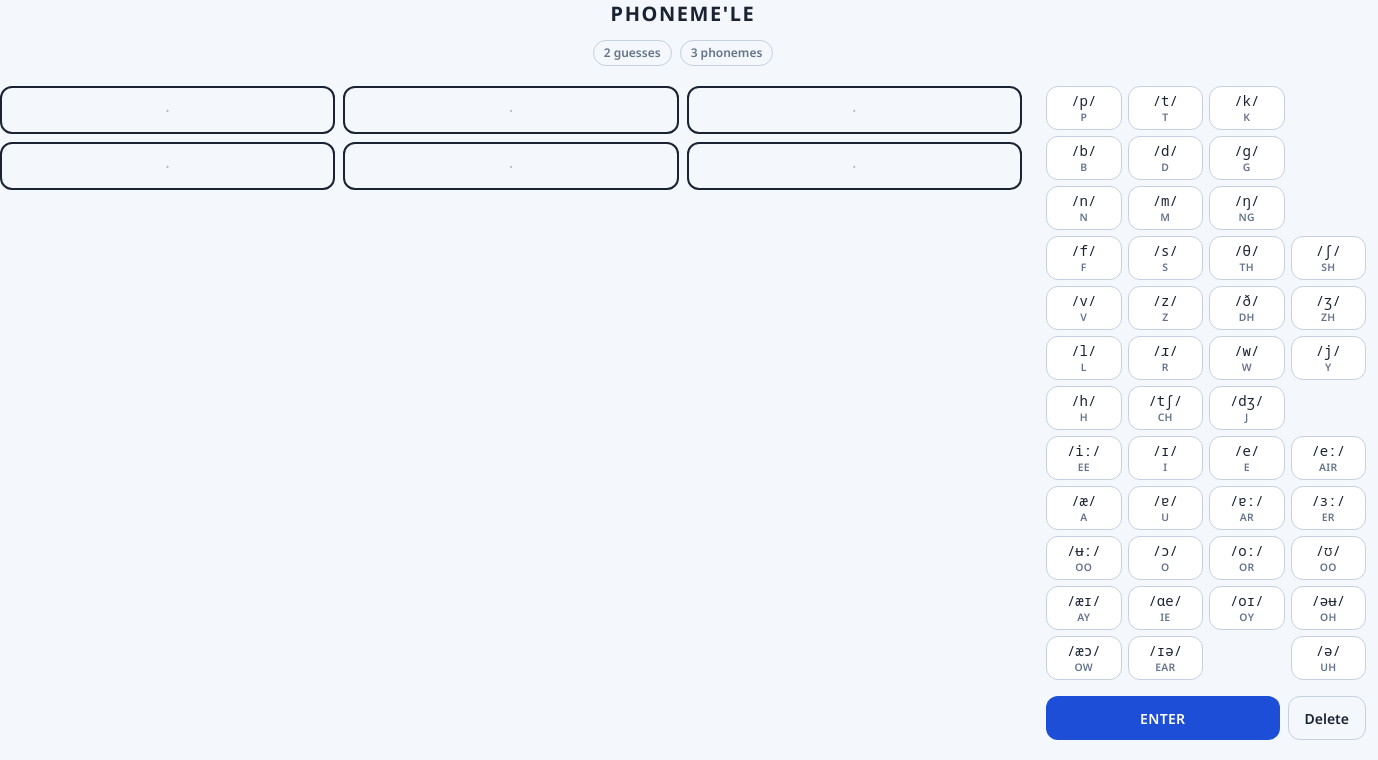
Scenario: Wordle components › reports incomplete guesses
Click the button "Enter": x=1163, y=718 [1046, 696, 1280, 740]
(page scrolled)
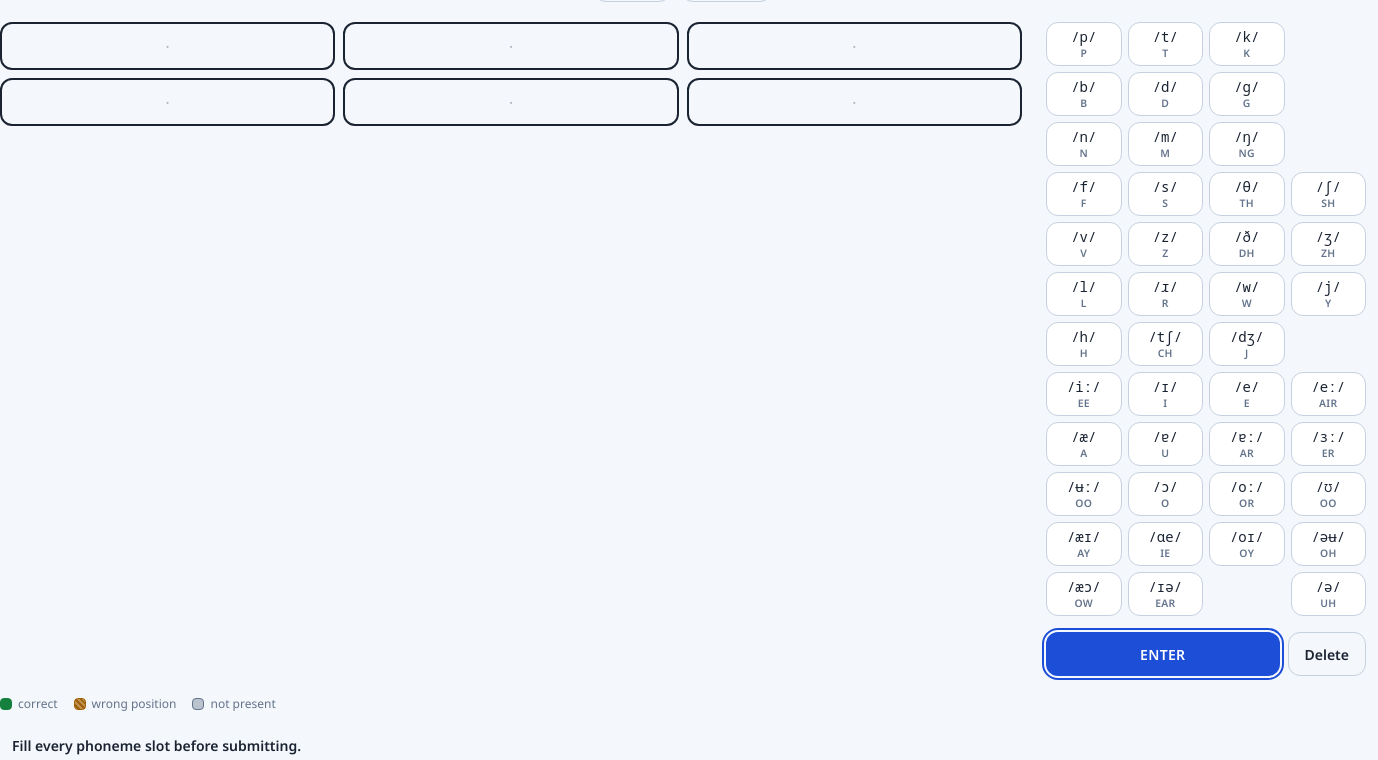
expect the message shows "Fill every": met, box [12, 736, 301, 755]
